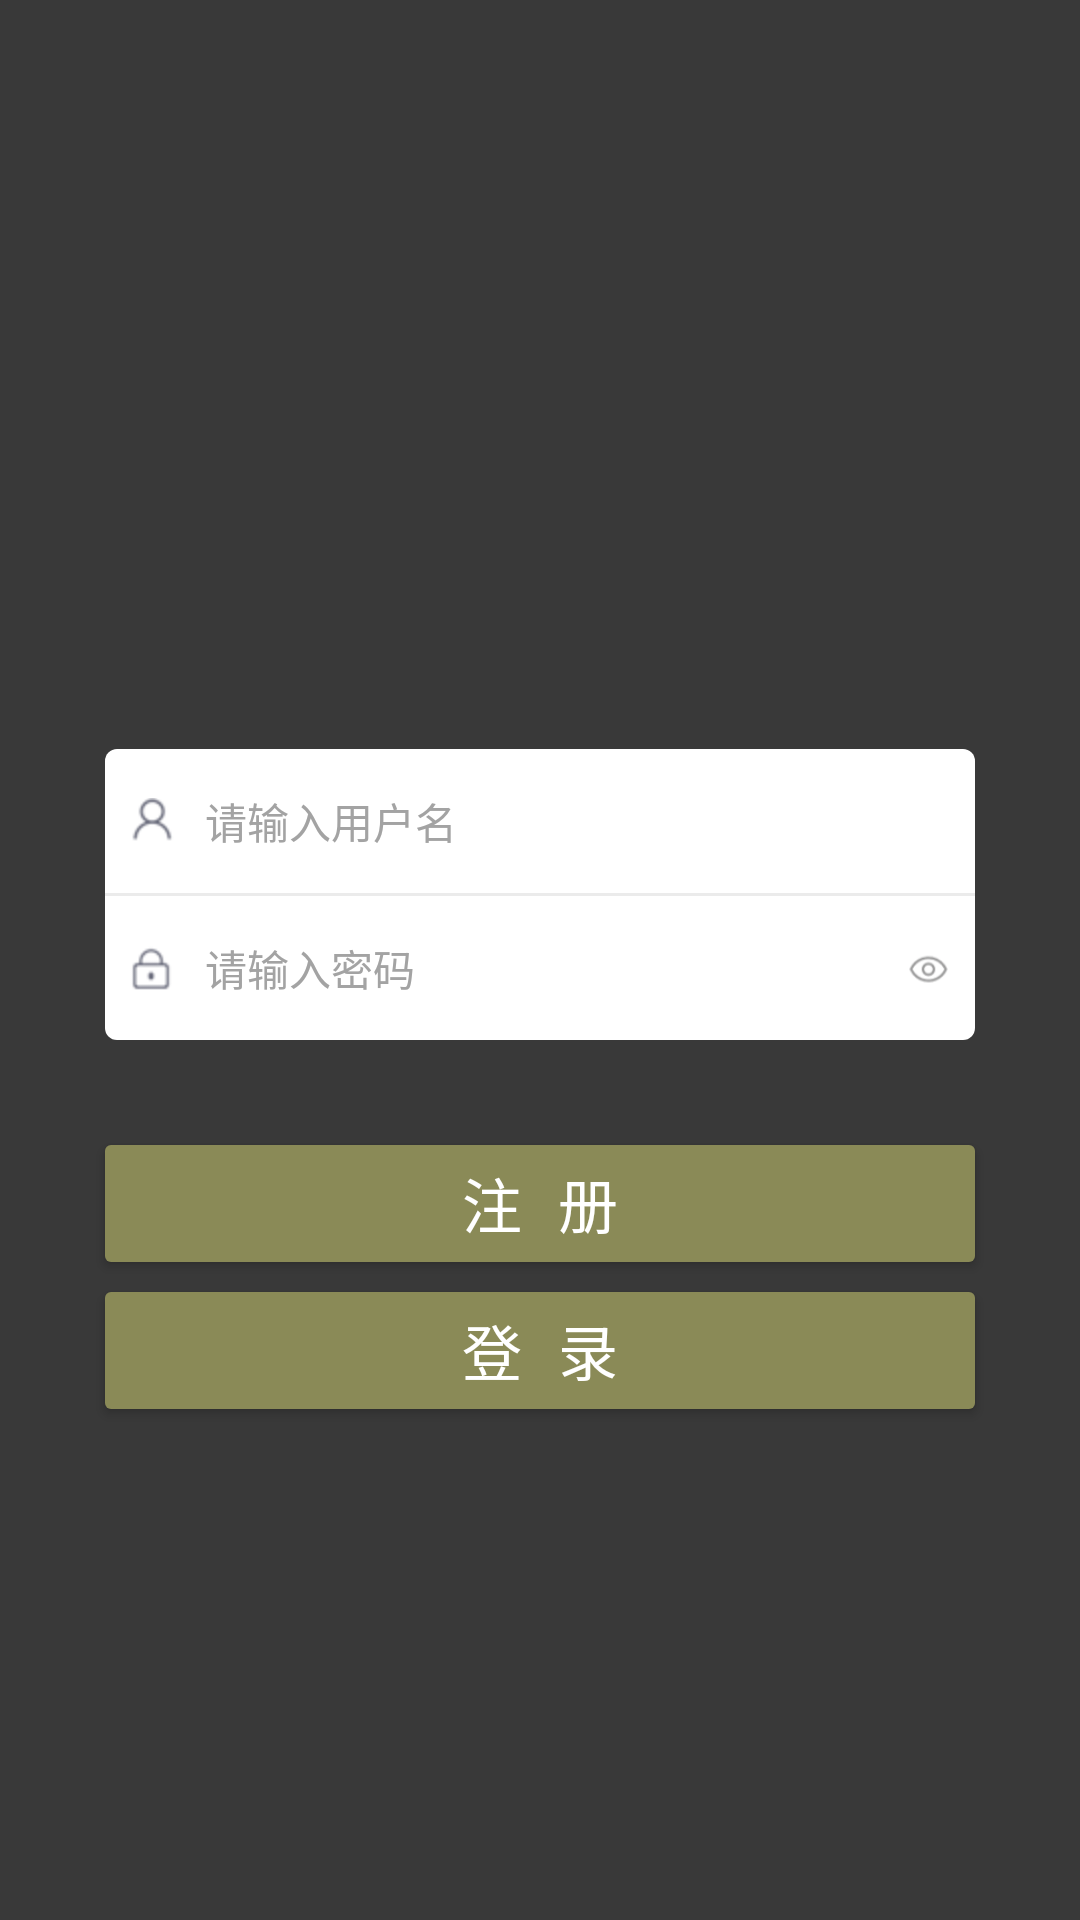

Icon click points for this 1080×1920 phone screenshot, format [x,y]:
hide psw: [928,969]
